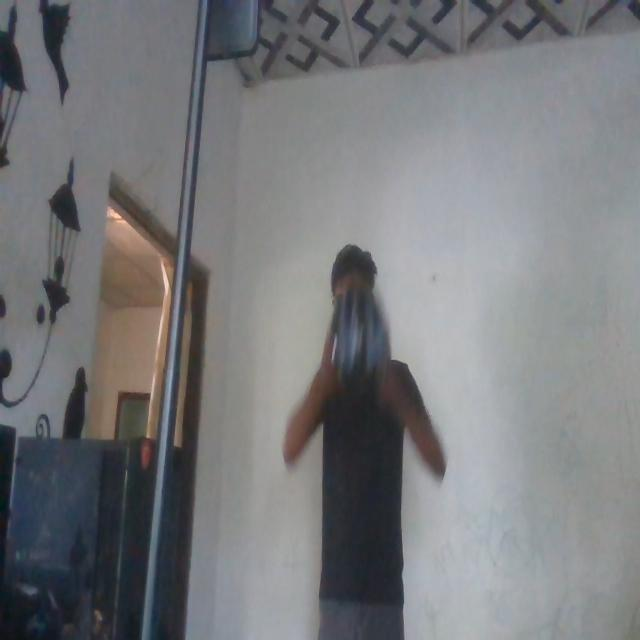Person: (286, 241, 438, 640)
